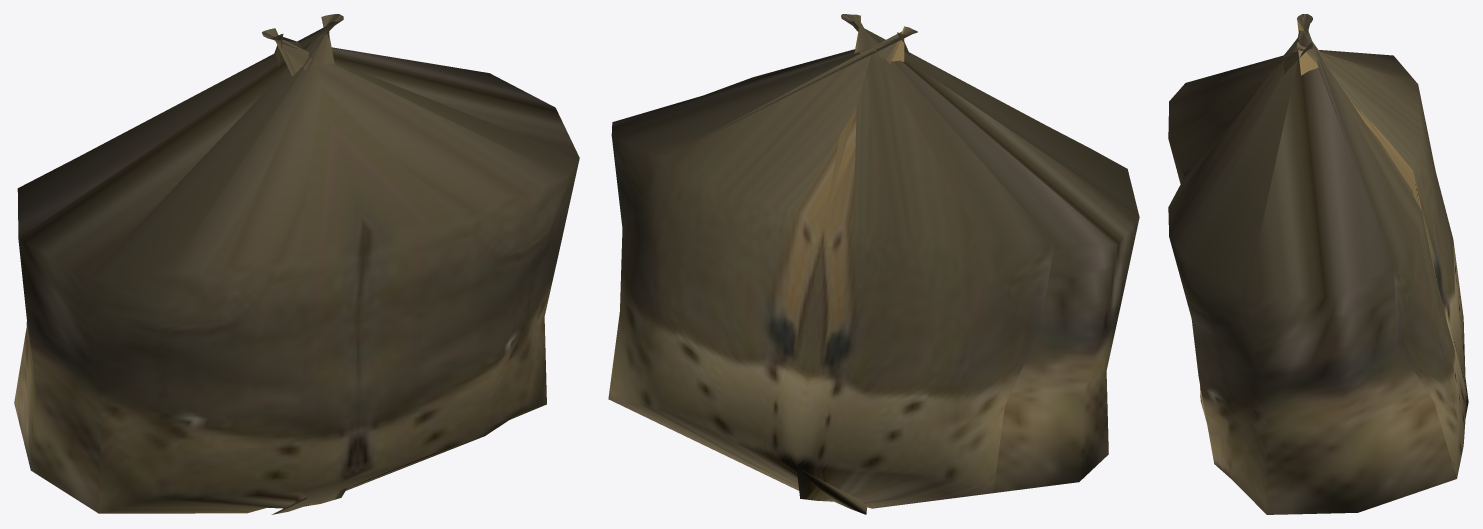
Rendered from middle.fbx.
3 views of the same model, side by side, from view 1: azimuth 30°, elevation 25°; view 2: azimuth 150°, elevation 25°; view 3: azimuth 270°, elevation 25° (orthographic). The views are drawn at different scales.
Parts seen in each view (by area): view 1: Mesh_001; view 2: Mesh_001; view 3: Mesh_001.
Part boxes in pixels (x1,y1,x2,y2): Mesh_001: (14, 14, 579, 514); Mesh_001: (608, 14, 1139, 514); Mesh_001: (1168, 14, 1468, 514).
Size of the model in its own units: 8.38 by 7.21 by 4.43.
